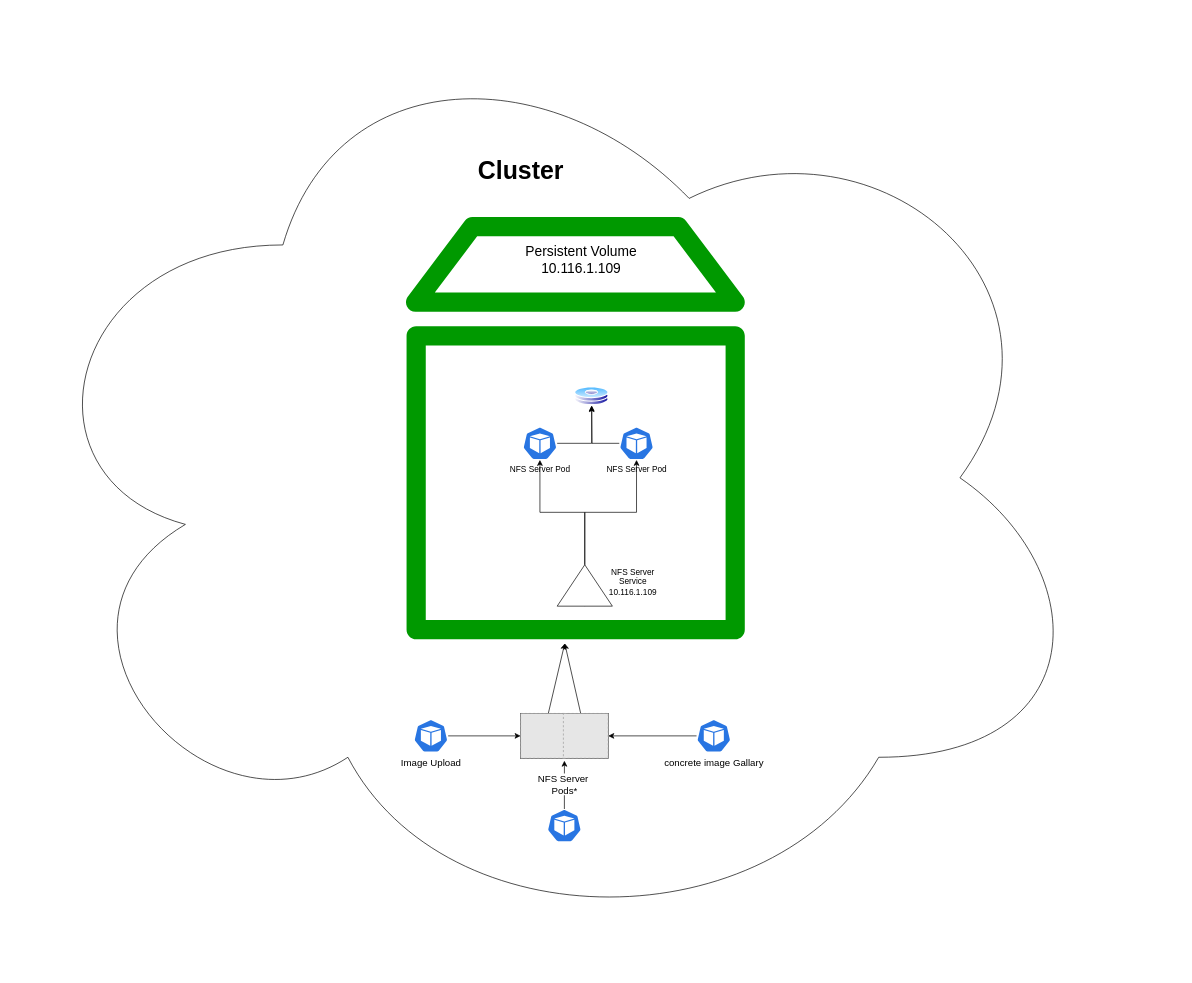
The diagram is 1192 pixels wide and 983 high, and some of its shapes have lost their labels. Grey dashed boxes stand in for pictures. The box of each missing label's shape, as (x1, y1, x2, y2) in pixels:
Crack Detection: (546, 808, 582, 842)
GCE Disk concrete-gce- nfs-disk: (574, 386, 609, 405)
